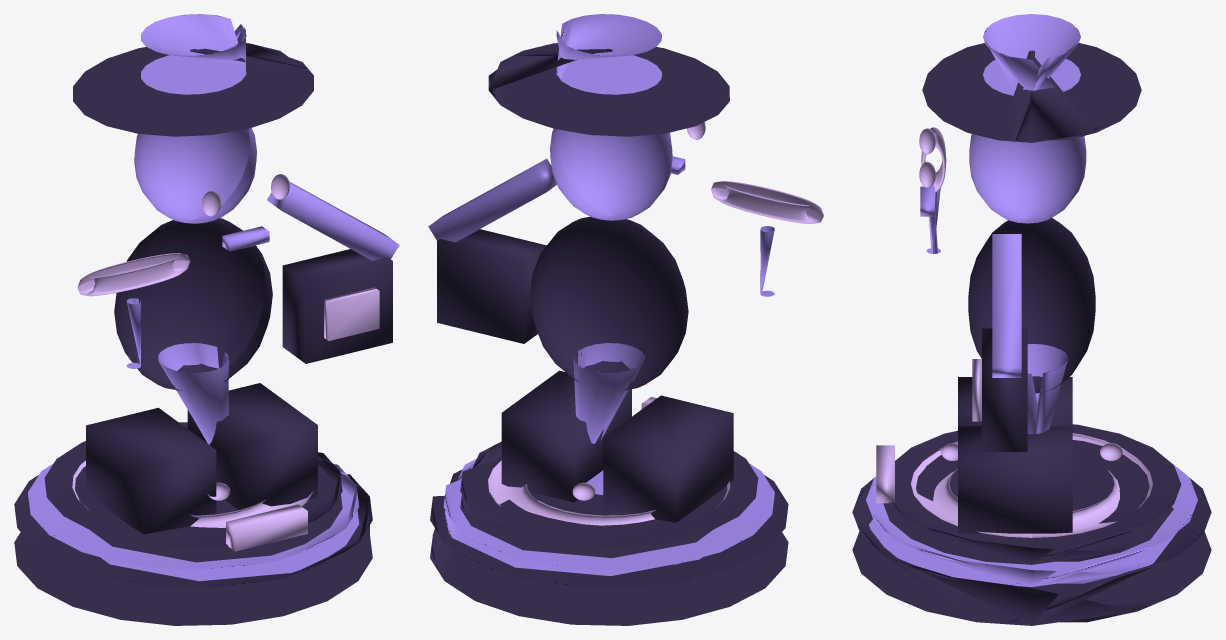
The model's file is accuser.glb.
3 views of the same model, side by side, from view 1: azimuth 30°, elevation 25°; view 2: azimuth 150°, elevation 25°; view 3: azimuth 270°, elevation 25° (orthographic).
Visible parts, largest first — view 1: accuser_#33284D, accuser_#A78BFA, accuser_#D8B4FE; view 2: accuser_#33284D, accuser_#A78BFA, accuser_#D8B4FE; view 3: accuser_#33284D, accuser_#A78BFA, accuser_#D8B4FE.
Boxes of the visible parts, left/top/right/bottom form: accuser_#33284D: left=14, top=43, right=392, bottom=625; accuser_#A78BFA: left=28, top=14, right=399, bottom=581; accuser_#D8B4FE: left=72, top=174, right=379, bottom=551; accuser_#33284D: left=430, top=43, right=788, bottom=625; accuser_#A78BFA: left=428, top=14, right=774, bottom=576; accuser_#D8B4FE: left=488, top=122, right=823, bottom=525; accuser_#33284D: left=852, top=43, right=1211, bottom=625; accuser_#A78BFA: left=866, top=14, right=1197, bottom=586; accuser_#D8B4FE: left=876, top=127, right=1152, bottom=537.
Bounding box in the file's own units: 1.94 × 2.71 × 1.72.
